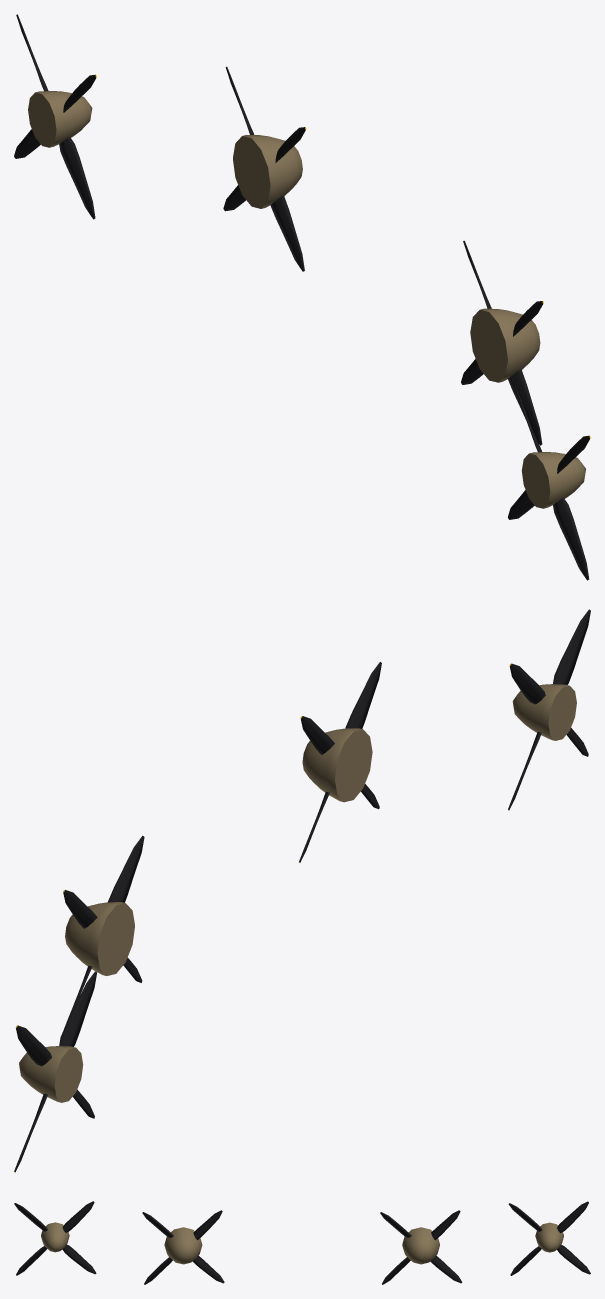
Rendered from fh_prop_bomber_1.glb.
3 views of the same model, one above another, from view 1: azimuth 30°, elevation 25°; view 2: azimuth 150°, elevation 25°; view 3: azimuth 270°, elevation 25° (orthographic). The views are drawn at different scales.
Visible parts, largest first — view 1: prop_inner_l, prop_inner_r, prop_outer_r, prop_outer_l; view 2: prop_inner_r, prop_inner_l, prop_outer_r, prop_outer_l; view 3: prop_inner_l, prop_inner_r, prop_outer_r, prop_outer_l.
Boxes of the visible parts, x1,y1,x2,y2 form: prop_inner_l: [223, 66, 306, 271]; prop_inner_r: [461, 240, 543, 445]; prop_outer_r: [508, 375, 590, 580]; prop_outer_l: [14, 14, 96, 219]; prop_inner_r: [299, 662, 381, 862]; prop_inner_l: [63, 835, 144, 1027]; prop_outer_r: [508, 609, 590, 810]; prop_outer_l: [14, 971, 96, 1172]; prop_inner_l: [380, 1210, 462, 1284]; prop_inner_r: [142, 1210, 224, 1284]; prop_outer_r: [14, 1201, 96, 1275]; prop_outer_l: [508, 1201, 590, 1275].
Bounding box in the file's own units: 0.089 × 0.1111 × 0.6773.
